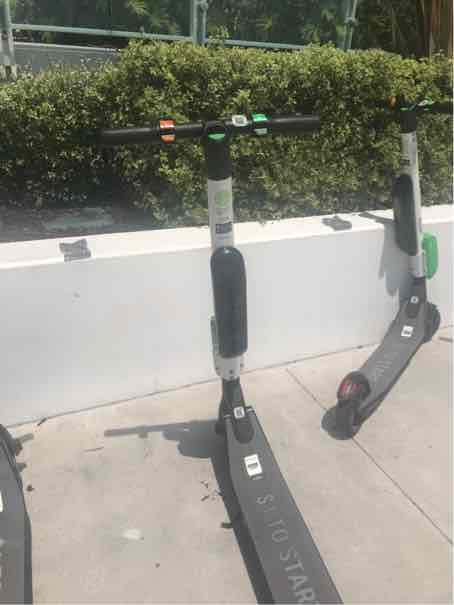scooter: (94, 100, 369, 605), (321, 84, 454, 455)
